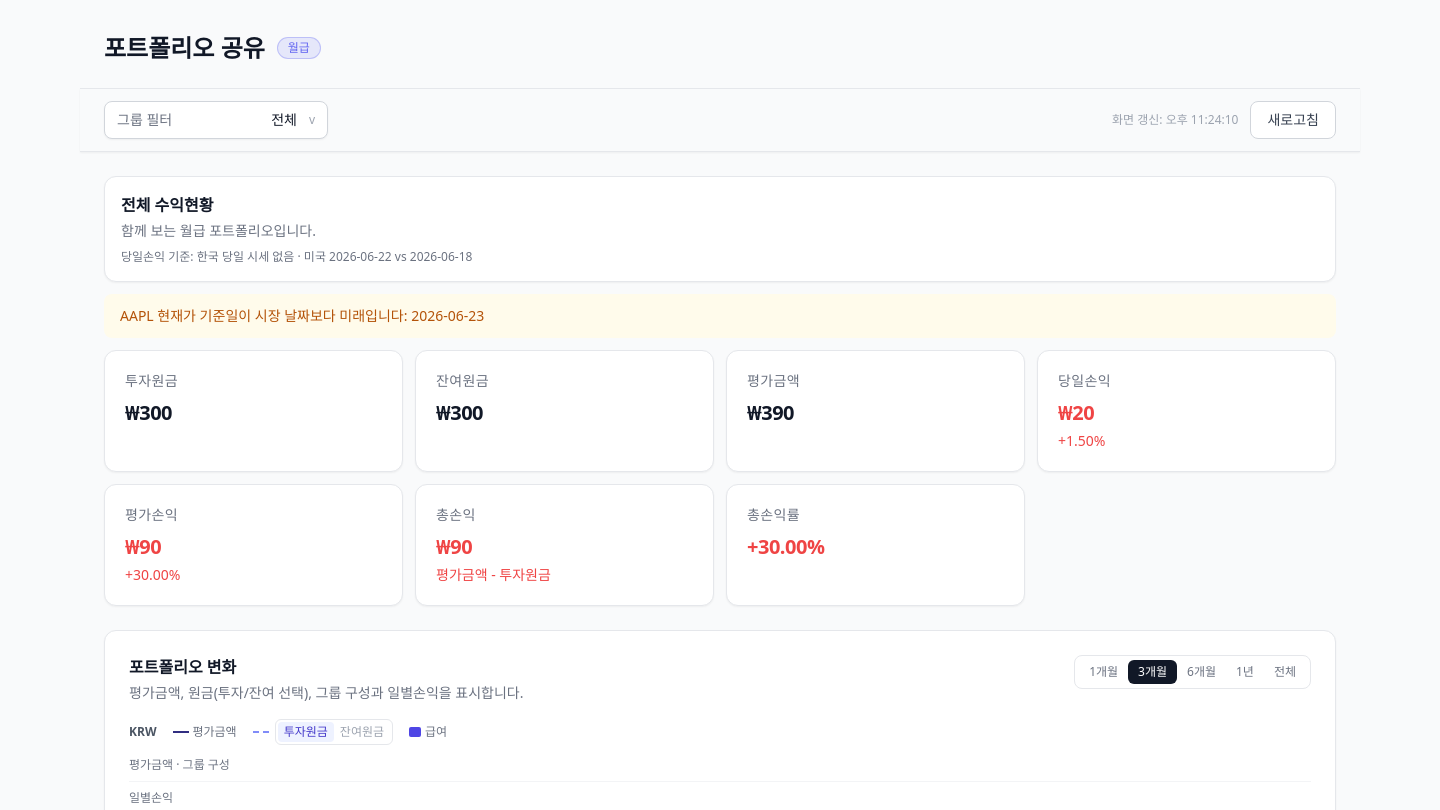
Test: SharePage › refreshes the shared group payload without leaving the share page
Click the button "새로고침" at (1293, 120), box top-left (1250, 101), bottom-right (1336, 139)
(page scrolled)
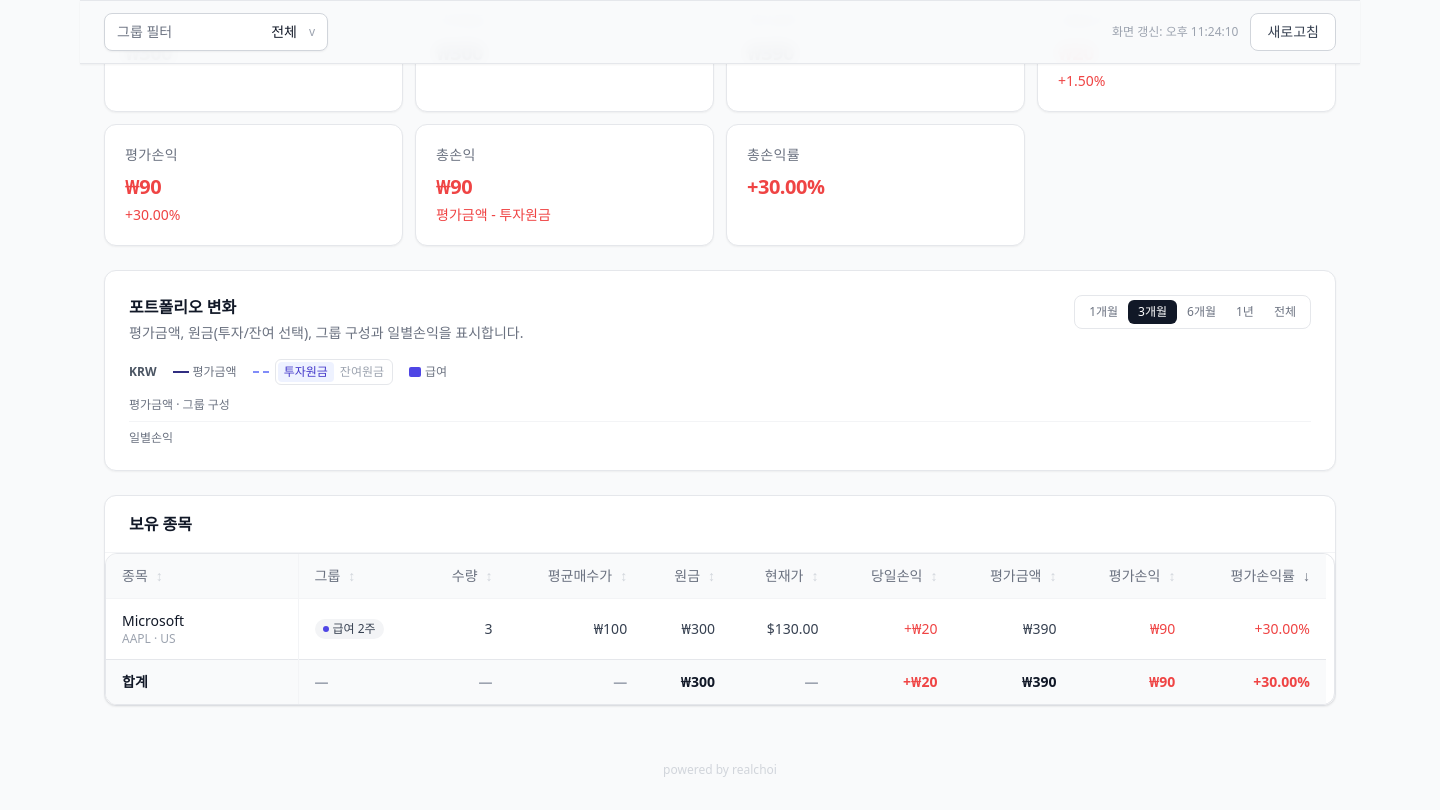
Check: the text "Microsoft" is shown, box top-left (122, 611), bottom-right (184, 630)
